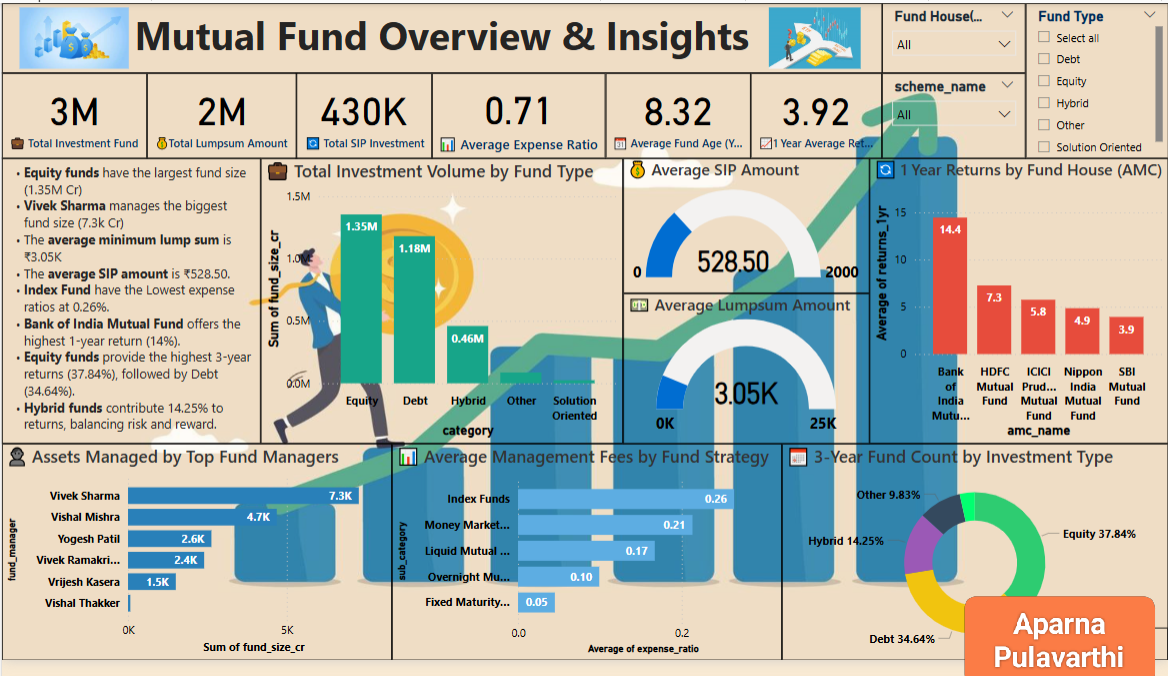

Layout of this report page (visuals, bound fields, positions):
{"tool":"powerbi","page":{"name":"Page 1","canvas":[1280,720],"ordinal":0},"visuals":[{"type":"donutChart","title":"📅 3-Year Fund Count by Investment Type","fields":{"Category":["Mutual Fund.category"],"Y":["Mutual Fund.returns_3yr"]},"box":[856.7,481.3,423.7,238.4],"z":0},{"type":"barChart","title":"📊 Average Management Fees by Fund Strategy","fields":{"Category":["Mutual Fund.sub_category"],"Y":["Mutual Fund.expense_ratio"]},"box":[428.1,483,428.1,237.4],"z":1000},{"type":"barChart","title":"👤 Assets Managed by Top Fund Managers","fields":{"Category":["Mutual Fund.fund_manager"],"Y":["Mutual Fund.fund_size_cr"]},"box":[0,483,428.1,237.4],"z":2000},{"type":"lineStackedColumnComboChart","title":"💼 Total Investment Volume by Fund Type","fields":{"Category":["Mutual Fund.category"],"Y":["Mutual Fund.fund_size_cr"]},"box":[284,170.2,397.9,312.9],"z":3000},{"type":"gauge","title":"💵 Average Lumpsum Amount","fields":{"Y":["Mutual Fund.min_lumpsum"],"MinValue":["Sum(Mutual Fund.min_lumpsum)1"],"MaxValue":["Sum(Mutual Fund.min_lumpsum)2"]},"box":[682,318.4,270.3,164.7],"z":4000},{"type":"gauge","title":"💰 Average SIP Amount","fields":{"Y":["Mutual Fund.min_sip"],"MinValue":["Sum(Mutual Fund.min_sip)1"],"MaxValue":["Sum(Mutual Fund.min_sip)2"]},"box":[682,170.2,270.3,148.2],"z":5000},{"type":"columnChart","title":"🔄 1 Year Returns by Fund House (AMC)","fields":{"Category":["Mutual Fund.amc_name"],"Y":["Mutual Fund.returns_1yr"]},"box":[952.3,170.2,328,312.9],"z":6000},{"type":"slicer","fields":{"Values":["Mutual Fund.category"]},"box":[1123.8,0,156.4,170.2],"z":7000},{"type":"slicer","fields":{"Values":["Mutual Fund.amc_name"]},"box":[966,0,157.8,76.8],"z":8000},{"type":"slicer","fields":{"Values":["Mutual Fund.scheme_name"]},"box":[966,76.8,157.8,93.3],"z":9000},{"type":"card","fields":{"Values":["Mutual Fund.fund_size_cr"]},"box":[0,76.8,159.2,93.3],"z":10000},{"type":"card","fields":{"Values":["Mutual Fund.min_lumpsum"]},"box":[159.2,76.8,164.7,93.3],"z":11000},{"type":"card","fields":{"Values":["Mutual Fund.min_sip"]},"box":[322.5,76.8,149.6,93.3],"z":12000},{"type":"card","fields":{"Values":["Mutual Fund.expense_ratio"]},"box":[472,76.8,190.7,93.3],"z":13000},{"type":"card","fields":{"Values":["Mutual Fund.fund_age_yr"]},"box":[662.8,76.8,159.2,93.3],"z":14000},{"type":"card","fields":{"Values":["Mutual Fund.returns_1yr"]},"box":[822,76.8,144.1,93.3],"z":15000},{"type":"textbox","box":[0,0,966,76.8],"z":16000},{"type":"textbox","box":[0,170.2,284,312.9],"z":17000},{"type":"image","box":[0,0,159.2,76.8],"z":18000},{"type":"image","box":[817.8,0,148.2,76.8],"z":19000},{"type":"textbox","box":[1035.2,685.1,245.3,35.7],"z":20000}]}

Visuals, with their boxes on the page's 1280x720 design canvas (x1, y1, x2, y2). These are canvas units, not pixel positions in the 1168x676 screenshot, which may show the page scaled, cropped or inside an application window:
"📅 3-Year Fund Count by Investment Type" donutChart: bbox=(857, 481, 1280, 720)
"📊 Average Management Fees by Fund Strategy" barChart: bbox=(428, 483, 856, 720)
"👤 Assets Managed by Top Fund Managers" barChart: bbox=(0, 483, 428, 720)
"💼 Total Investment Volume by Fund Type" lineStackedColumnComboChart: bbox=(284, 170, 682, 483)
"💵 Average Lumpsum Amount" gauge: bbox=(682, 318, 952, 483)
"💰 Average SIP Amount" gauge: bbox=(682, 170, 952, 318)
"🔄 1 Year Returns by Fund House (AMC)" columnChart: bbox=(952, 170, 1280, 483)
slicer - Mutual Fund.category: bbox=(1124, 0, 1280, 170)
slicer - Mutual Fund.amc_name: bbox=(966, 0, 1124, 77)
slicer - Mutual Fund.scheme_name: bbox=(966, 77, 1124, 170)
card - Mutual Fund.fund_size_cr: bbox=(0, 77, 159, 170)
card - Mutual Fund.min_lumpsum: bbox=(159, 77, 324, 170)
card - Mutual Fund.min_sip: bbox=(322, 77, 472, 170)
card - Mutual Fund.expense_ratio: bbox=(472, 77, 663, 170)
card - Mutual Fund.fund_age_yr: bbox=(663, 77, 822, 170)
card - Mutual Fund.returns_1yr: bbox=(822, 77, 966, 170)
textbox: bbox=(0, 0, 966, 77)
textbox: bbox=(0, 170, 284, 483)
image: bbox=(0, 0, 159, 77)
image: bbox=(818, 0, 966, 77)
textbox: bbox=(1035, 685, 1280, 721)
